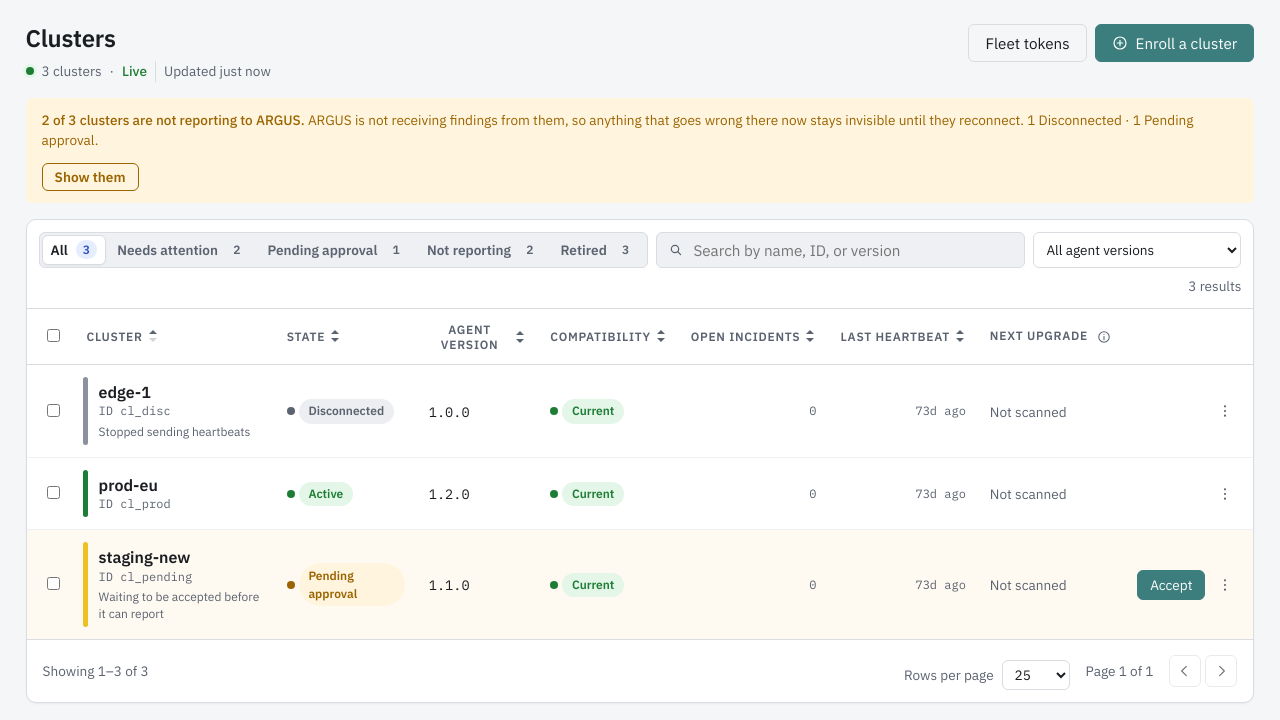
Test: ClustersPage — search, state, version filters and quick views › search narrows the table by cluster name
Expected: the link "prod-eu" is shown, [99,474,158,496]
Type "edge" into the search field with placeholder "Search by name, ID, or version" at (841,250), box [656,232,1025,268]
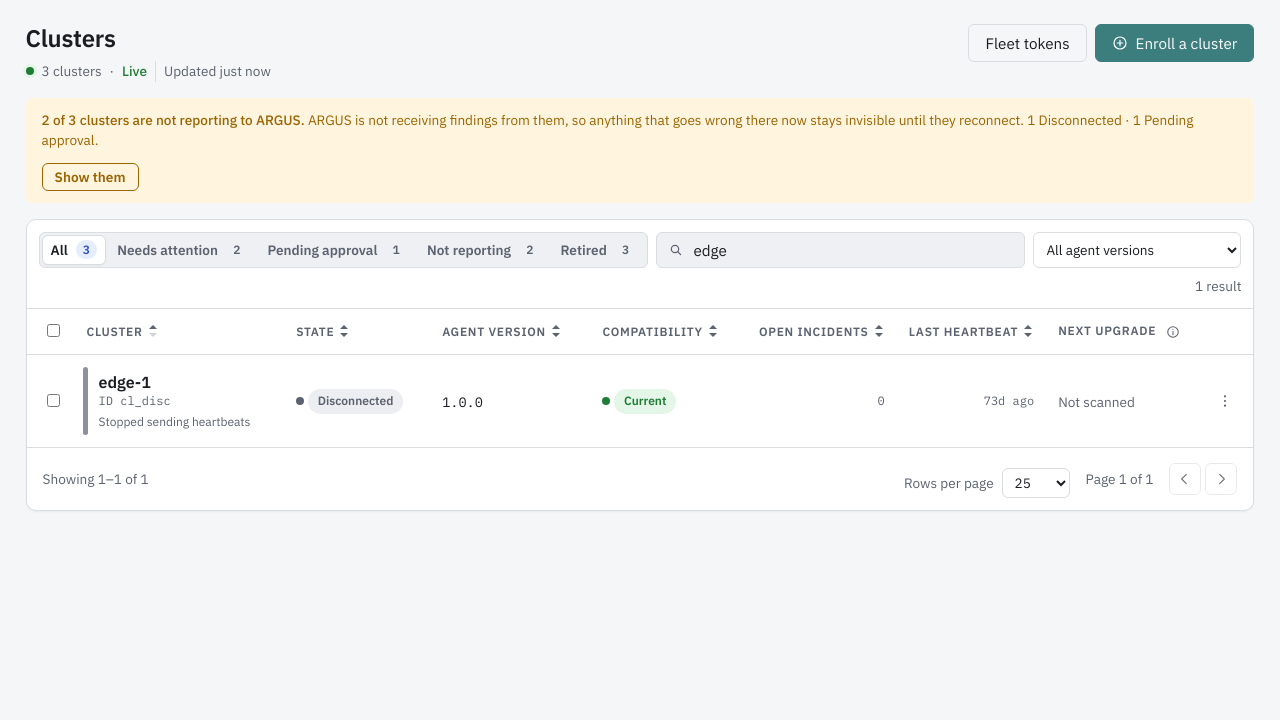
Expected: the link "edge-1" is shown, [99,371,151,393]
Result: the link "prod-eu" is gone
Result: the link "staging-new" is gone
